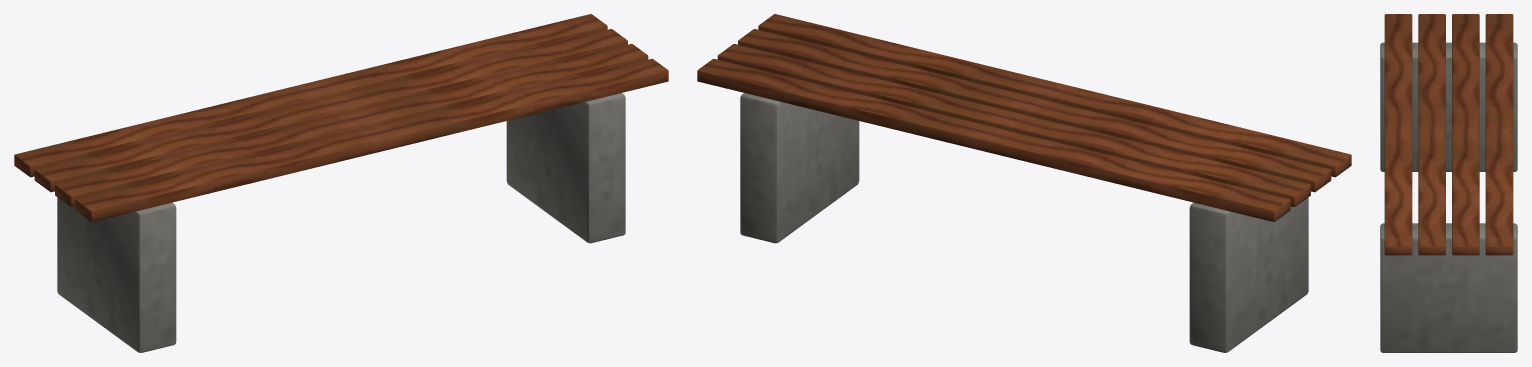
Rendered from PAV-MOB-001_lod1.glb.
The picture shows the model from 3 angles, left to right: view 1: azimuth 30°, elevation 25°; view 2: azimuth 150°, elevation 25°; view 3: azimuth 270°, elevation 25°; orthographic projection. The views are drawn at different scales.
Parts seen in each view (by area): view 1: PAV-MOB-001_ripa0, PAV-MOB-001_apoio-7, PAV-MOB-001_apoio7, PAV-MOB-001_ripa3, PAV-MOB-001_ripa2, PAV-MOB-001_ripa1; view 2: PAV-MOB-001_ripa3, PAV-MOB-001_apoio-7, PAV-MOB-001_apoio7, PAV-MOB-001_ripa0, PAV-MOB-001_ripa1, PAV-MOB-001_ripa2; view 3: PAV-MOB-001_apoio7, PAV-MOB-001_ripa0, PAV-MOB-001_ripa3, PAV-MOB-001_ripa1, PAV-MOB-001_ripa2, PAV-MOB-001_apoio-7.
Part boxes in pixels (box(x1,y1,x2,y2)): PAV-MOB-001_ripa0: box(75, 59, 668, 221); PAV-MOB-001_apoio-7: box(57, 197, 176, 352); PAV-MOB-001_apoio7: box(506, 93, 625, 243); PAV-MOB-001_ripa3: box(14, 14, 607, 177); PAV-MOB-001_ripa2: box(34, 29, 627, 192); PAV-MOB-001_ripa1: box(55, 44, 648, 206); PAV-MOB-001_ripa3: box(697, 59, 1290, 221); PAV-MOB-001_apoio-7: box(1189, 197, 1308, 352); PAV-MOB-001_apoio7: box(740, 93, 859, 243); PAV-MOB-001_ripa0: box(758, 14, 1351, 177); PAV-MOB-001_ripa1: box(738, 29, 1331, 192); PAV-MOB-001_ripa2: box(717, 44, 1310, 206); PAV-MOB-001_apoio7: box(1380, 223, 1517, 352); PAV-MOB-001_ripa0: box(1384, 14, 1412, 255); PAV-MOB-001_ripa3: box(1485, 14, 1513, 255); PAV-MOB-001_ripa1: box(1418, 14, 1445, 255); PAV-MOB-001_ripa2: box(1452, 14, 1479, 255); PAV-MOB-001_apoio-7: box(1380, 42, 1517, 171).
Bounding box in the file's own units: 1.8 × 0.455 × 0.45.
2 materials, 2 textured.
